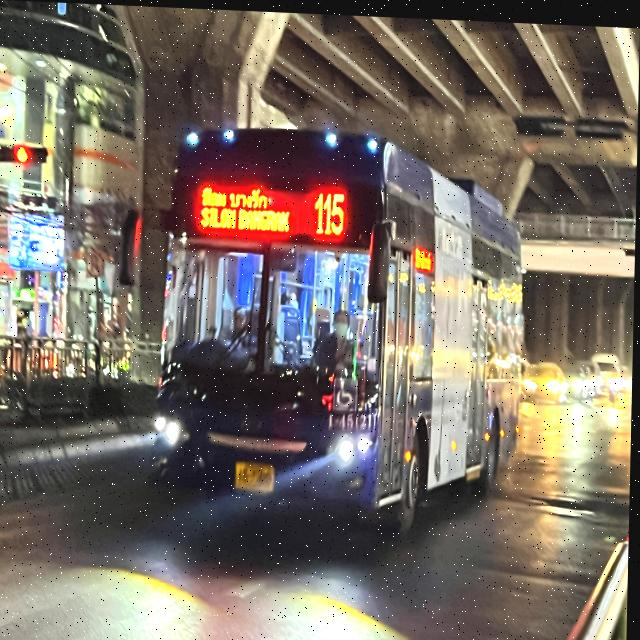Bus-Line-Number: (310, 183, 357, 239)
Destination-Sign-Normal: (198, 181, 297, 234)
TSB-Bus: (152, 121, 532, 531)
